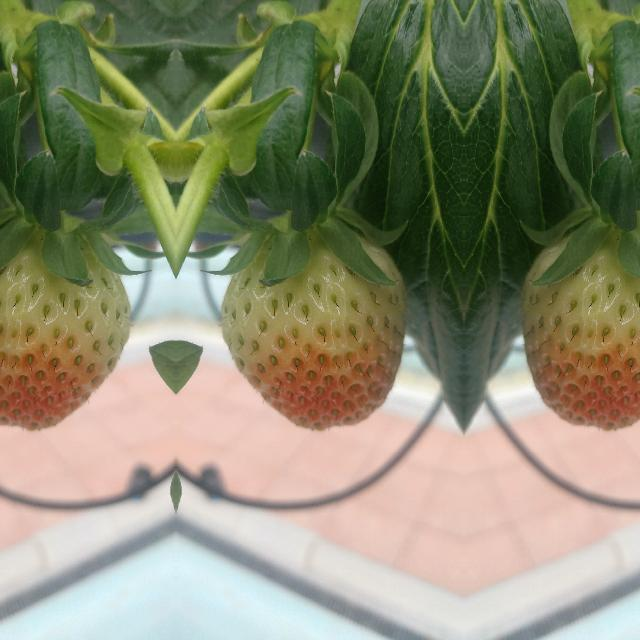Health_50: (220, 230, 406, 430), (0, 230, 129, 430), (520, 230, 640, 430)
